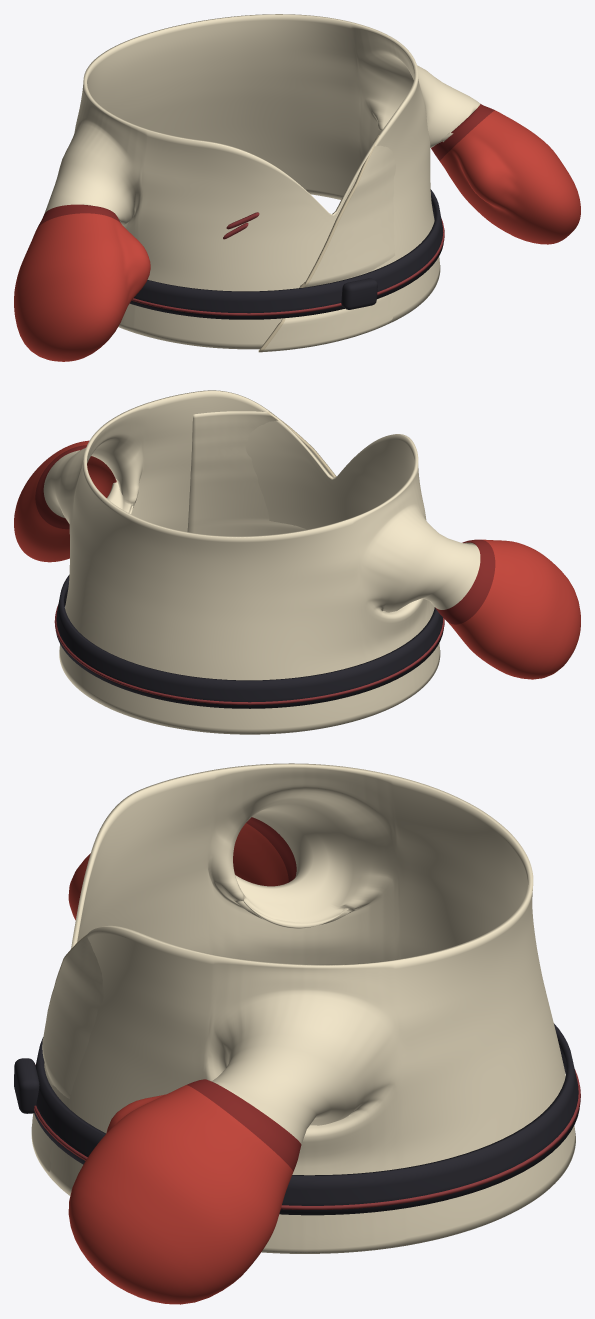
The model's file is double-hit-original-before-V1809C.glb.
The picture shows the model from 3 angles, top to bottom: view 1: azimuth 30°, elevation 25°; view 2: azimuth 150°, elevation 25°; view 3: azimuth 270°, elevation 25°; orthographic projection. The views are drawn at different scales.
Visible parts, largest first — view 1: Gi and gloves with continuous cuffs display, Right gi front overlapping left display, Black belt display, Burgundy belt stitch display, Belt knot display; view 2: Gi and gloves with continuous cuffs display, Black belt display, Right gi front overlapping left display, Burgundy belt stitch display; view 3: Gi and gloves with continuous cuffs display, Black belt display, Right gi front overlapping left display, Burgundy belt stitch display, Belt knot display.
Boxes of the visible parts, x1,y1,x2,y2 form: Gi and gloves with continuous cuffs display: [14, 14, 580, 361]; Right gi front overlapping left display: [258, 134, 395, 352]; Black belt display: [130, 189, 443, 319]; Burgundy belt stitch display: [132, 218, 444, 315]; Belt knot display: [341, 278, 377, 309]; Gi and gloves with continuous cuffs display: [14, 390, 580, 734]; Black belt display: [55, 575, 443, 708]; Right gi front overlapping left display: [187, 411, 336, 536]; Burgundy belt stitch display: [54, 605, 444, 705]; Gi and gloves with continuous cuffs display: [45, 763, 575, 1304]; Black belt display: [34, 1023, 579, 1215]; Right gi front overlapping left display: [31, 935, 103, 1171]; Burgundy belt stitch display: [34, 1064, 580, 1209]; Belt knot display: [14, 1058, 39, 1113].
Bounding box in the file's own units: 3.21 × 1.1 × 2.05.
